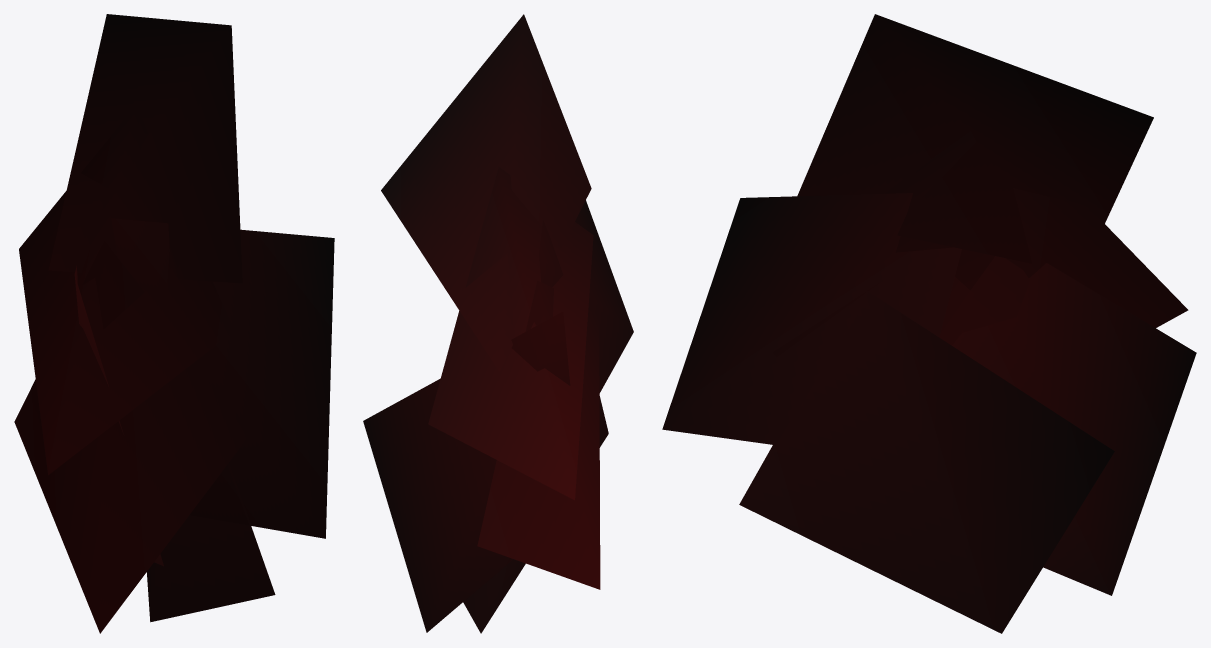
Rendered from TGV_Ivy_01A.fbx.
3 views of the same model, side by side, from view 1: azimuth 30°, elevation 25°; view 2: azimuth 150°, elevation 25°; view 3: azimuth 270°, elevation 25° (orthographic). The views are drawn at different scales.
Parts seen in each view (by area): view 1: TGV_Ivy__01A_LOD1; view 2: TGV_Ivy__01A_LOD1; view 3: TGV_Ivy__01A_LOD1.
Part boxes in pixels (<box>): TGV_Ivy__01A_LOD1: <box>14,14,334,633</box>; TGV_Ivy__01A_LOD1: <box>363,14,633,633</box>; TGV_Ivy__01A_LOD1: <box>662,14,1196,633</box>.
Size of the model in its own units: 19.57 by 77.51 by 59.79.
